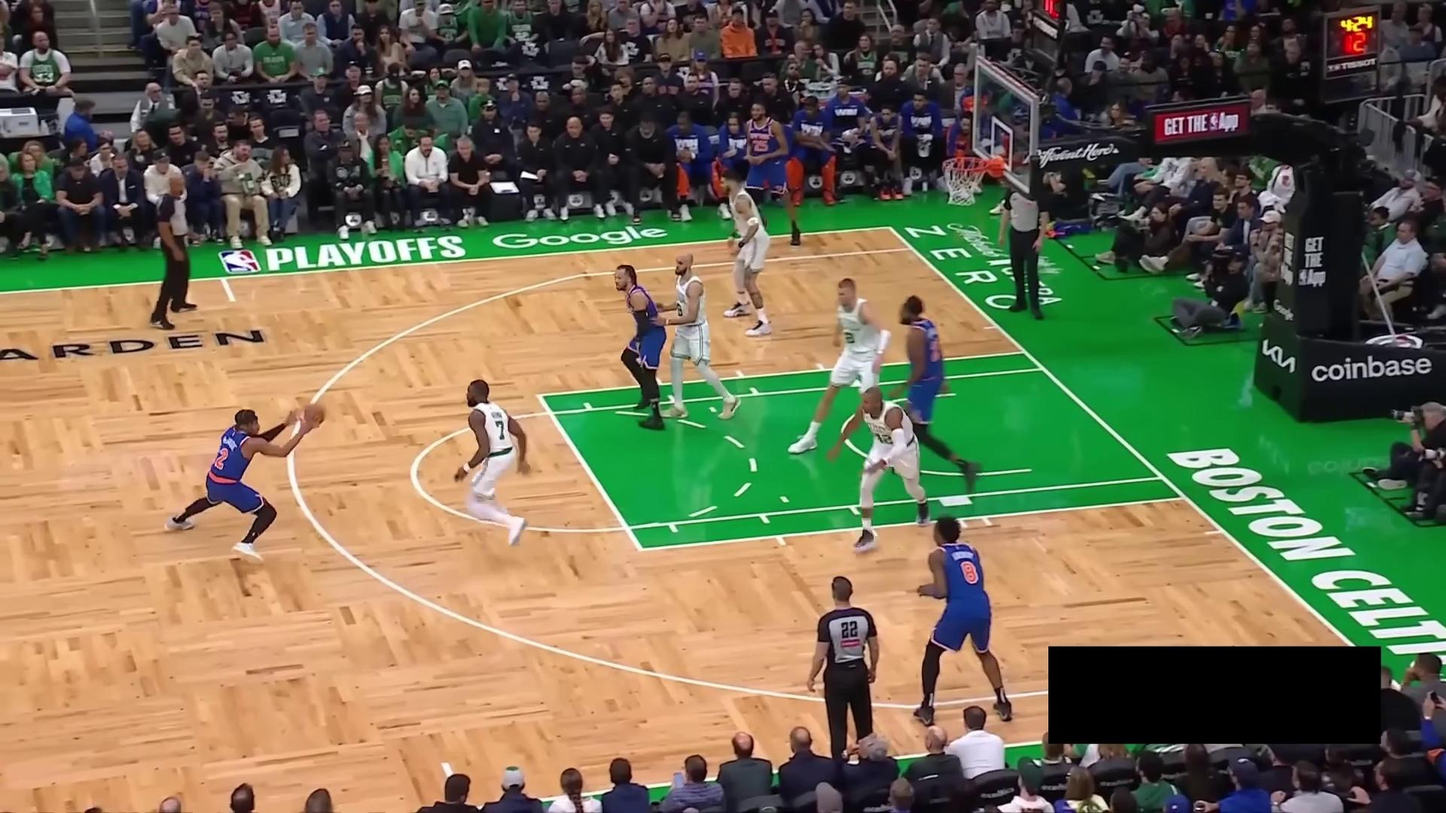ball: (300, 400, 326, 427)
number: (960, 561, 978, 585), (213, 446, 229, 470), (873, 431, 895, 446), (843, 330, 857, 346), (495, 419, 505, 440), (753, 138, 768, 152), (676, 301, 683, 317)
player: (912, 514, 1014, 727), (877, 293, 983, 495), (825, 383, 934, 554), (788, 276, 891, 456), (654, 251, 743, 422), (453, 379, 532, 547), (728, 99, 804, 249), (718, 167, 773, 337), (614, 262, 669, 431)
player-in-possession: (163, 399, 327, 567)
referee: (807, 575, 879, 761), (149, 172, 204, 330), (998, 187, 1049, 321)
rim: (941, 155, 990, 172)
